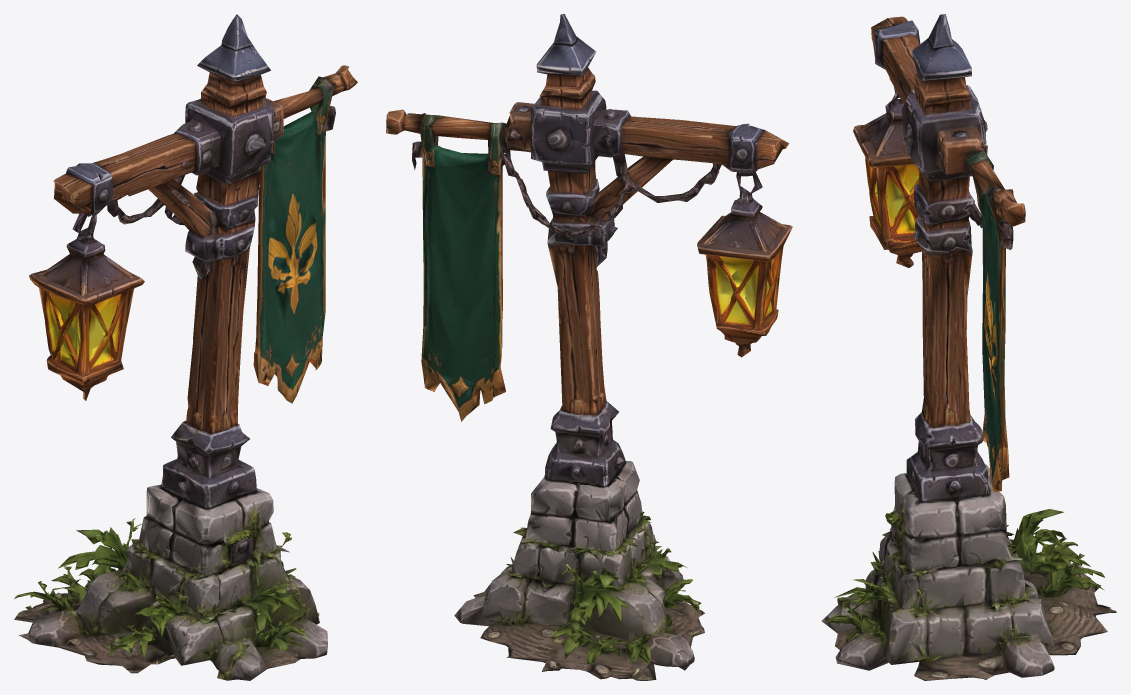
File: street-lamp.glb
3 views of the same model, side by side, from view 1: azimuth 30°, elevation 25°; view 2: azimuth 150°, elevation 25°; view 3: azimuth 270°, elevation 25° (orthographic). The views are drawn at different scales.
Visible parts, largest first — view 1: Village_Street_Lamp_Export; view 2: Village_Street_Lamp_Export; view 3: Village_Street_Lamp_Export.
Boxes of the visible parts, <box> form: Village_Street_Lamp_Export: <box>14,14,357,680</box>; Village_Street_Lamp_Export: <box>386,14,792,680</box>; Village_Street_Lamp_Export: <box>821,14,1116,680</box>.
Size of the model in its own units: 0.6029 by 0.973 by 0.4126.
1 material, 1 textured.
